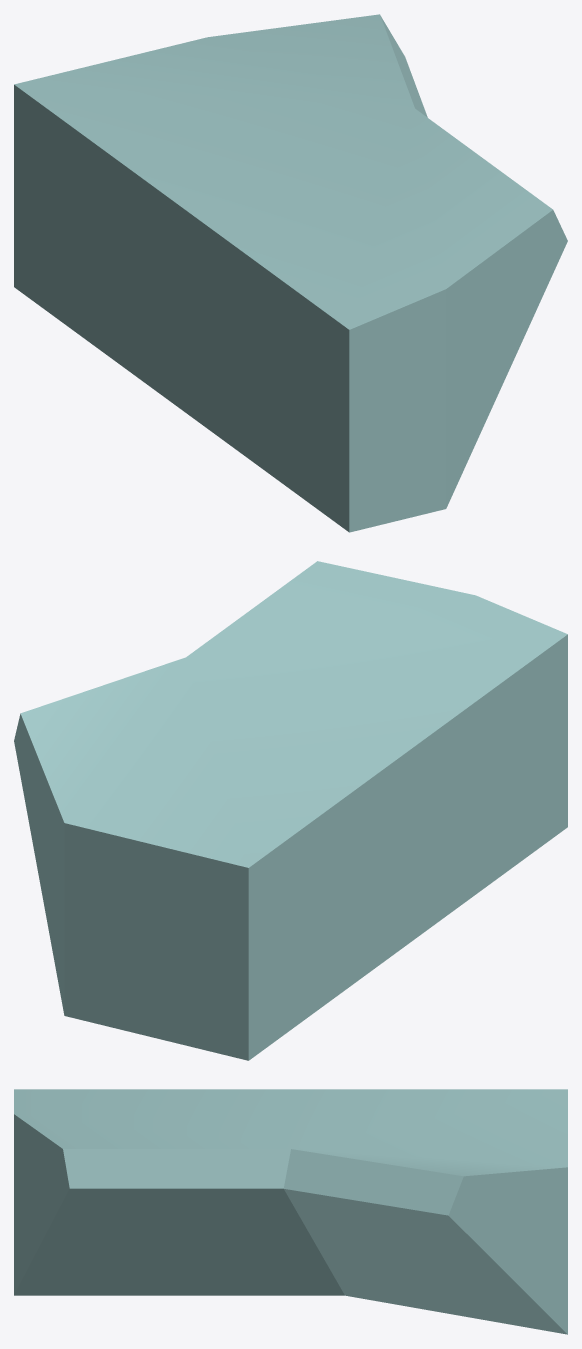
File: x_kray_obriv_blue_5_1_mirror.fbx
3 renders of one model, top to bottom at view 1: azimuth 30°, elevation 25°; view 2: azimuth 150°, elevation 25°; view 3: azimuth 270°, elevation 25°, orthographic. The views are drawn at different scales.
Parts seen in each view (by area): view 1: x_kray_obriv_blue_5_1_mirror1; view 2: x_kray_obriv_blue_5_1_mirror1; view 3: x_kray_obriv_blue_5_1_mirror1.
Part boxes in pixels (left/top/right/bottom): x_kray_obriv_blue_5_1_mirror1: left=14, top=14, right=567, bottom=532; x_kray_obriv_blue_5_1_mirror1: left=14, top=561, right=567, bottom=1060; x_kray_obriv_blue_5_1_mirror1: left=14, top=1089, right=567, bottom=1334.
Bounding box in the file's own units: 1.65 × 1.21 × 3.
